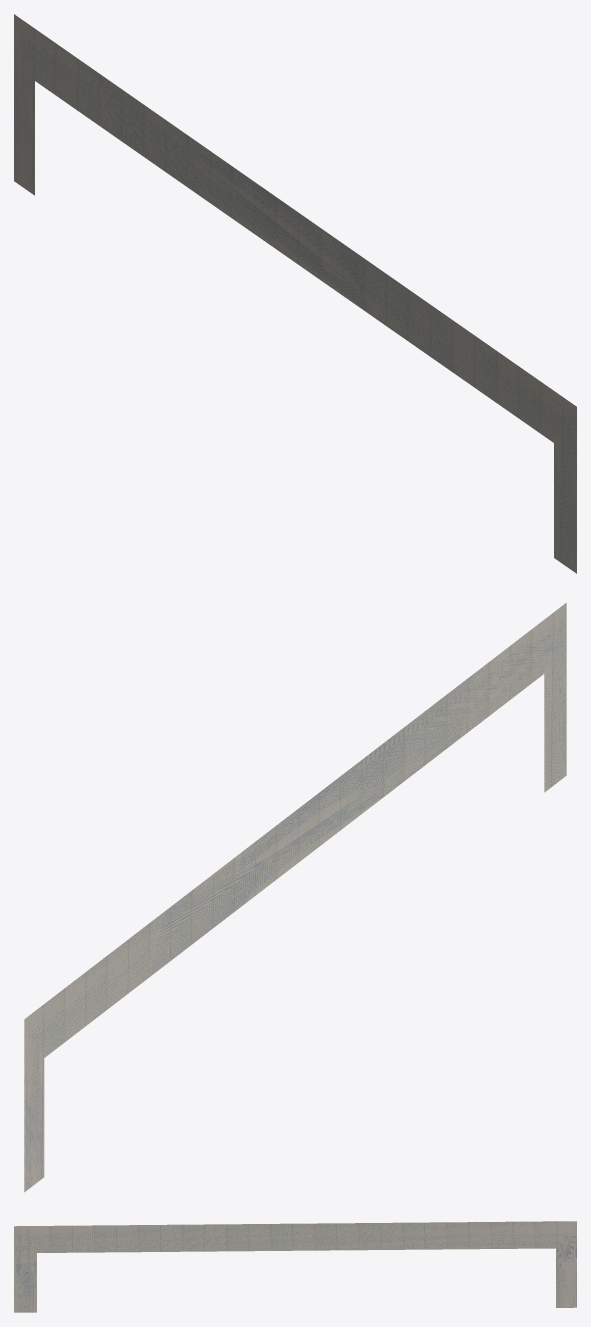
The model's file is 水立方32.dae.
The picture shows the model from 3 angles, top to bottom: view 1: azimuth 30°, elevation 25°; view 2: azimuth 150°, elevation 25°; view 3: azimuth 270°, elevation 25°; orthographic projection. The views are drawn at different scales.
Parts seen in each view (by area): view 1: SketchUp; view 2: SketchUp; view 3: SketchUp.
Boxes of the visible parts, x1,y1,x2,y2 form: SketchUp: [14, 14, 576, 573]; SketchUp: [24, 602, 566, 1192]; SketchUp: [14, 1221, 576, 1312].
Bounding box in the file's own units: 30.28 × 1443 × 245.
